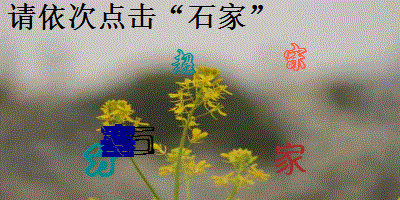text: (83, 141, 120, 178), (100, 123, 137, 159), (273, 141, 308, 177), (122, 125, 156, 157), (283, 42, 308, 72), (170, 48, 196, 76)
